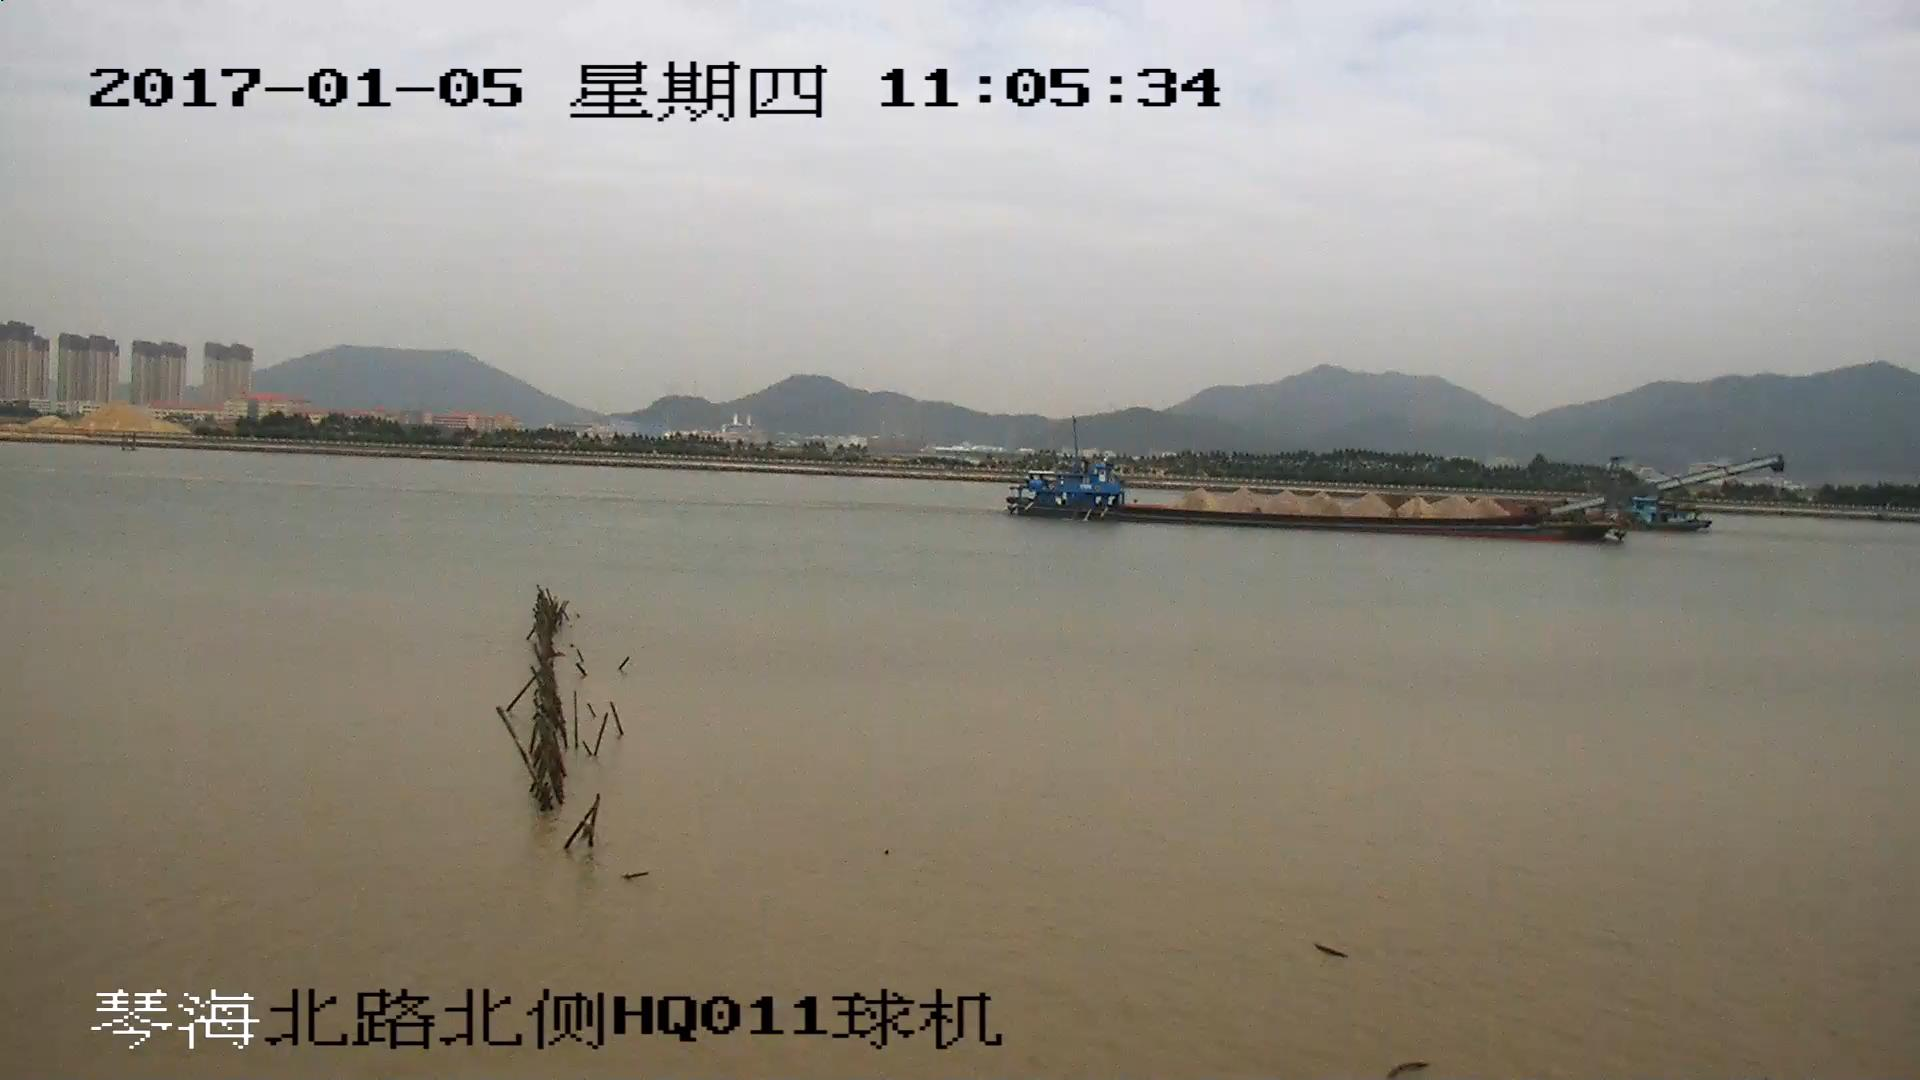ore carrier: (1006, 460, 1774, 534)
